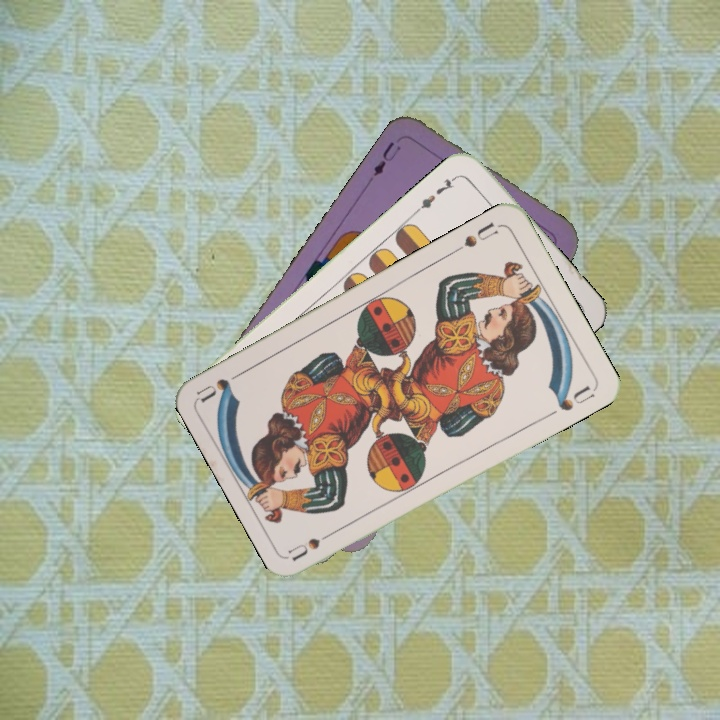E7: (412, 171, 462, 214)
EU: (369, 137, 404, 179)
SU: (286, 524, 342, 563), (449, 218, 501, 256)
